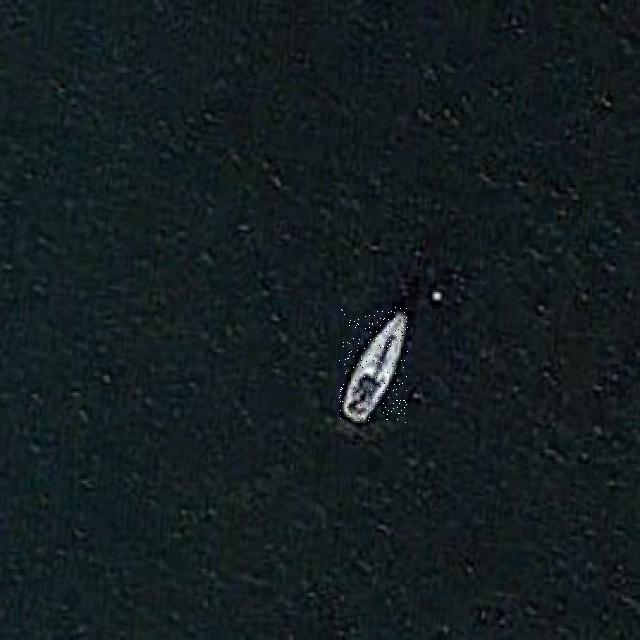boat: (339, 307, 408, 423)
